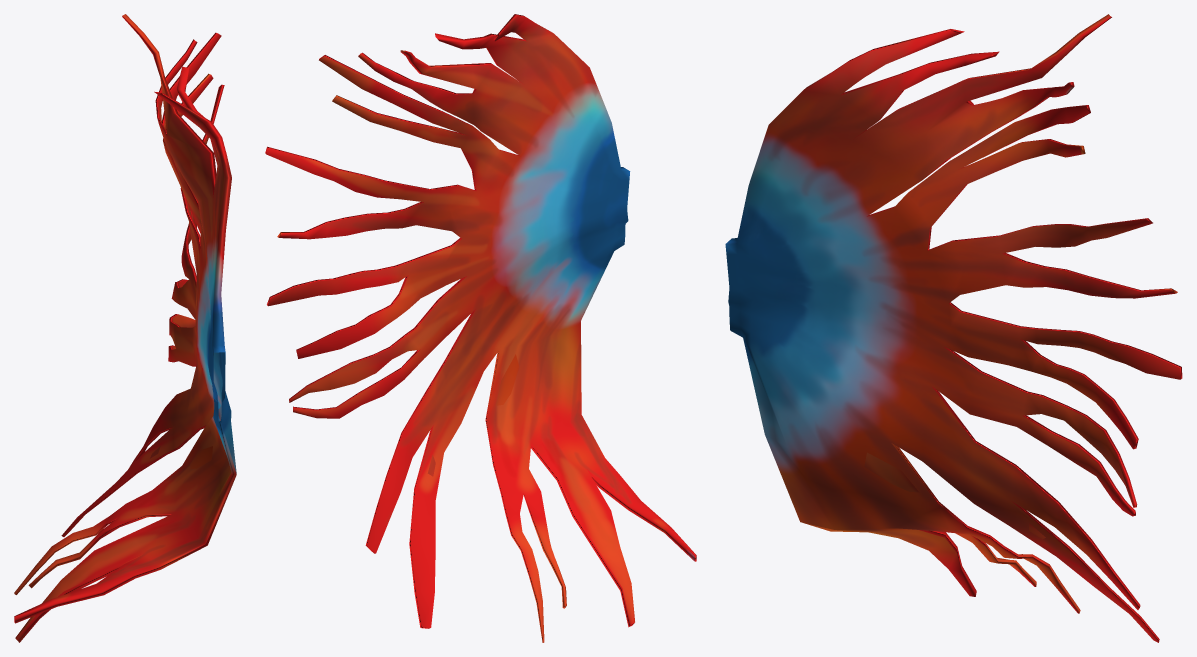
Rendered from back.obj.
3 renders of one model, left to right at view 1: azimuth 30°, elevation 25°; view 2: azimuth 150°, elevation 25°; view 3: azimuth 270°, elevation 25°, orthographic. The views are drawn at different scales.
Visible parts, largest first — view 1: BackFin_fin_back_0; view 2: BackFin_fin_back_0; view 3: BackFin_fin_back_0.
Part boxes in pixels (x1,y1,x2,y2): BackFin_fin_back_0: (14,14,236,642); BackFin_fin_back_0: (265,14,696,642); BackFin_fin_back_0: (725,14,1182,642).
Size of the model in its own units: 0.569 by 0.9655 by 0.5894.
